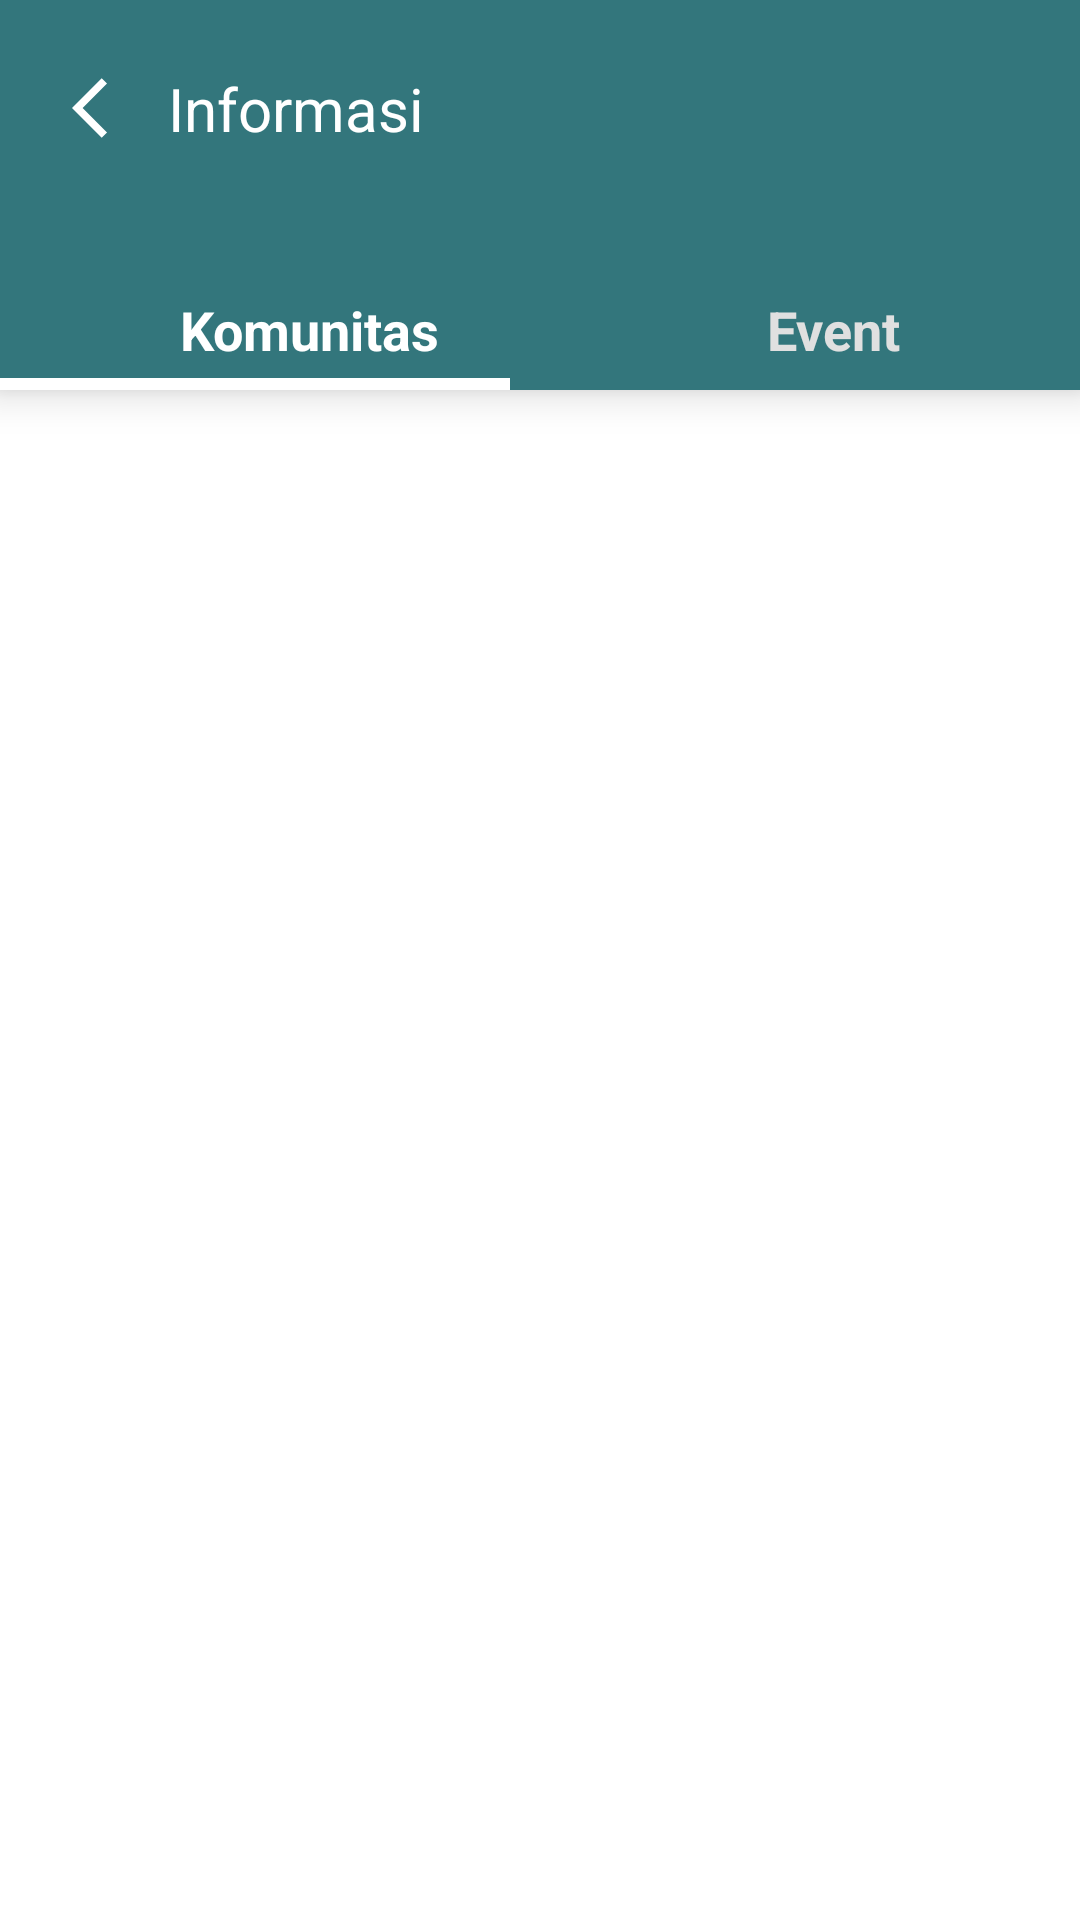

Named icons in this screenshot (1080px×1920px) and their centers, (x,y):
back button: (89,108)
